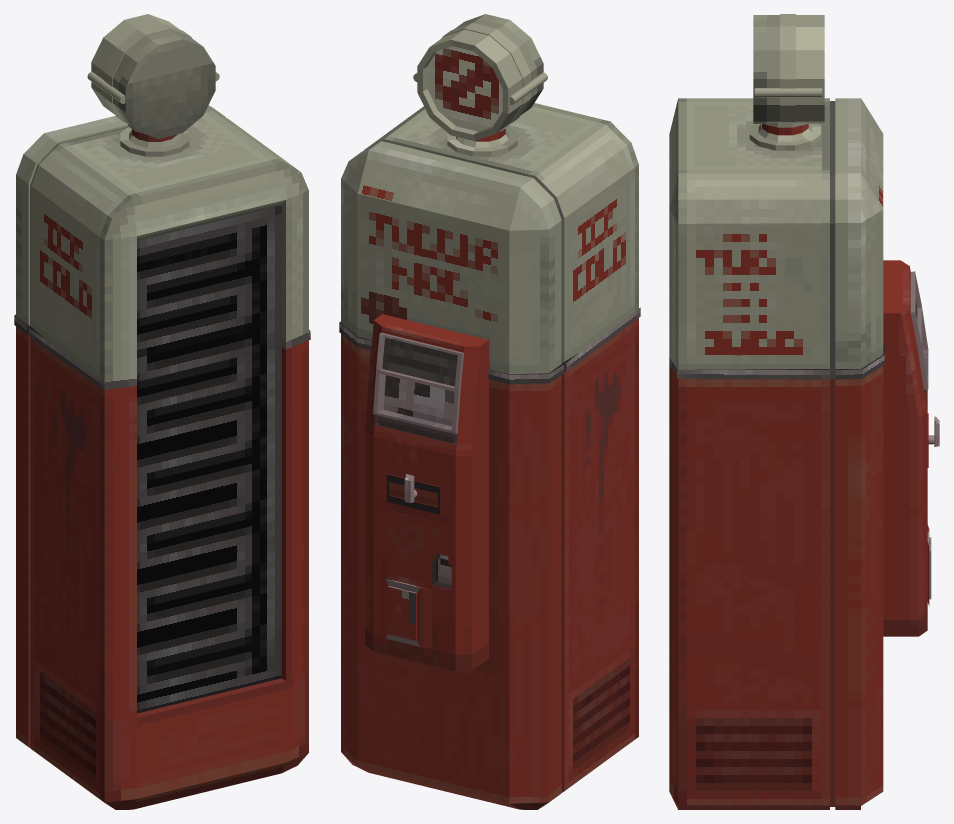
File: juggernog.glb
The picture shows the model from 3 angles, left to right: view 1: azimuth 30°, elevation 25°; view 2: azimuth 150°, elevation 25°; view 3: azimuth 270°, elevation 25°; orthographic projection. The views are drawn at different scales.
Visible parts, largest first — view 1: body, cylinder (×2); view 2: body, cube, cylinder (×2); view 3: body, cube, cylinder (×3).
Boxes of the visible parts, x1,y1,x2,y2 form: body: [14, 105, 310, 809]; cylinder (×2): [91, 14, 215, 156]; body: [339, 103, 640, 809]; cube: [365, 314, 488, 671]; cylinder (×2): [417, 14, 543, 156]; body: [669, 98, 884, 809]; cube: [883, 260, 931, 636]; cylinder (×3): [749, 14, 824, 150].
Size of the model in its own units: 0.8734 by 2.89 by 0.9469.
Materials: 1 (1 with a texture image).
